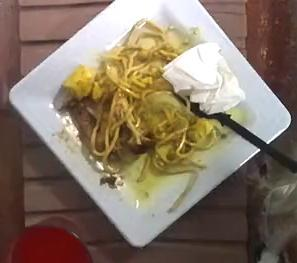asian_noodles: (75, 39, 220, 173)
tofu: (63, 65, 95, 99)
